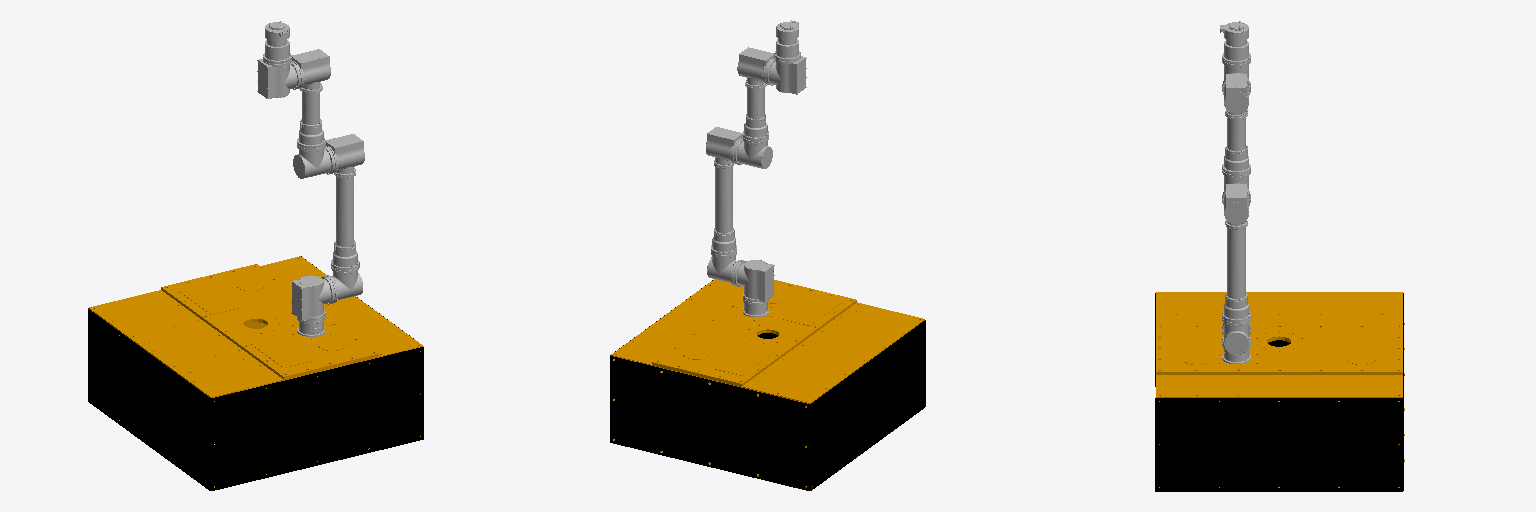
The robot description file, URDF, robot "KARM_EM_v2_sat":
<?xml version="1.0" encoding="utf-8"?>
<!-- This URDF was automatically created by SolidWorks to URDF Exporter! Originally created by Stephen Brawner (brawner@gmail.com) 
 Commit Version: 1.6.0-4-g7f85cfe  Build Version: 1.6.7995.38578
 For more information, please see http://wiki.ros.org/sw_urdf_exporter -->
<robot
  name="KARM_EM_v2_sat">

  <material name="black">
    <color rgba="0.0 0.0 0.0 1.0"/>
  </material>
  <material name="blue">
    <color rgba="0.0 0.0 0.8 1.0"/>
  </material>
  <material name="green">
    <color rgba="0.0 0.8 0.0 1.0"/>
  </material>
  <material name="grey_">
    <color rgba="0.2 0.2 0.2 1.0"/>
  </material>
  <material name="orange">
    <color rgba="1.0 0.4235294117647059 0.0392156862745098 1.0"/>
  </material>
  <material name="brown">
    <color rgba="0.8705882352941177 0.8117647058823529 0.7647058823529411 1.0"/>
  </material>
  <material name="red">
    <color rgba="0.8 0.0 0.0 1.0"/>
  </material>
  <material name="white">
    <color rgba="1.0 1.0 1.0 1.0"/>
  </material>
  <material name="metal">
    <color rgba="0.768627450980392 0.749019607843137 0.729411764705882 1"/>
  </material>
  <material name="metal_grey">
    <color rgba="0.501960784313725 0.501960784313725 0.501960784313725 1"/>
  </material>
  <material name="metal_white">
    <color rgba="0.866666666666667 0.866666666666667 0.890196078431373 1"/>
  </material>

  <link name="world"/>
  <link name="link_px"/>
  <link name="link_py"/>
  <link name="link_pz"/>
  <link name="link_rz"/>
  <link name="link_ry"/>

   <joint name="Px" type="prismatic">
    <parent link="world"/>
    <child link="link_px"/>
    <origin rpy="0 0 0" xyz="+0.0 +0.0 0.0"/>
    <axis xyz="1 0 0"/>
    <limit effort="10000" lower="-20" upper="20" velocity="1000"/>
  </joint>
  <joint name="Py" type="prismatic">
    <parent link="link_px"/>
    <child link="link_py"/>
    <origin rpy="0 0 0" xyz="+0.0 +0.0 0.0"/>
    <axis xyz="0 1 0"/>
    <limit effort="10000" lower="-10" upper="10" velocity="1000"/>
  </joint>
  <joint name="Pz" type="prismatic">
    <parent link="link_py"/>
    <child link="link_pz"/>
    <origin rpy="0 0 0" xyz="+0.0 +0.0 0.0"/>
    <axis xyz="0 0 1"/>
    <limit effort="10000" lower="-2" upper="2" velocity="1000"/>
  </joint>
  <joint name="Rz" type="revolute">
    <parent link="link_pz"/>
    <child link="link_rz"/>
    <origin rpy="0 0 0" xyz="+0.0 +0.0 0.0"/>
    <axis xyz="0 0 1"/>
    <limit effort="10000" lower="-3.14" upper="3.14" velocity="1000"/>
  </joint>
  <joint name="Ry" type="revolute">
    <parent link="link_rz"/>
    <child link="link_ry"/>
    <origin rpy="0 0 0" xyz="+0.0 +0.0 0.0"/>
    <axis xyz="0 1 0"/>
    <limit effort="10000" lower="-3.14" upper="3.14" velocity="1000"/>
  </joint>
  <joint name="Rx" type="revolute">
    <parent link="link_ry"/>
    <child link="l_tcp"/>
    <origin rpy="0 0 0" xyz="+0.0 +0.0 0.0"/>
    <axis xyz="1 0 0"/>
    <limit effort="10000" lower="-3.14" upper="3.14" velocity="1000"/>
  </joint>

  <link name="l_tcp">
    <inertial>
      <mass value="0"/>
      <origin rpy="0 0 0" xyz="0.0 0.0 0.0"/>
      <inertia ixx="0.0" ixy="0.0" ixz="0.0" iyy="0.0" iyz="0.0" izz="0.0"/>
    </inertial>
  </link>

  <link name="FTSensor">
    <inertial>
      <mass value="0.000"/>
      <origin rpy="0 0 0" xyz="0.0 0.0 0.0"/>
      <inertia ixx="0.0" ixy="0.0" ixz="0.0" iyy="0.0" iyz="0.0" izz="0.0"/>
    </inertial>
  </link>

  <joint name="ft_sensor_joint" type="fixed">
    <parent link="l_tcp"/>
    <child link="FTSensor"/>
    <origin rpy="0.0 0  3.1415926536" xyz="0.0 0.0 0.1048"/>
  </joint> 

  <joint name="CRS_fixed" type="fixed">
    <parent link="FTSensor"/>
    <child link="l_CRS_black"/>
    <origin rpy="0.0 0  0" xyz="0.0 0.0 0.0"/>
  </joint> 

  <!-- CRS Base -->
  <link name="l_CRS_black">
    <visual>
       <geometry>
        <mesh filename="meshes/CRS_black.stl"/>
      </geometry>
      <origin rpy="0 0 0" xyz="0.00 0 0"/>
        <material name="black"/>
    </visual>
    <visual>
    <geometry>
        <mesh filename="meshes/CRS_grey.stl"/>
      </geometry>
      <origin rpy="0 0 0" xyz="0.00 0 0"/>
        <material name="white_grey"/>
    </visual>
    <inertial>
      <mass value="500.0"/>
      <origin rpy="0 0 0" xyz="0.0 0.0 0.0"/>
      <inertia ixx="195" ixy="0.0" ixz="0.0" iyy="195" iyz="0.0" izz="120"/>
    </inertial>
  </link>

  <joint name="sat_to_indy12_fixed" type="fixed">
    <parent link="FTSensor"/>
    <child link="link0"/>
    <origin rpy="0    0 -1.5708" xyz="-0.19232 0.20744 0.0345"/>
  </joint>

  <link
    name="link0">
    <inertial>
      <origin
        xyz="-0.00103581 0.0 0.04093116"
        rpy="0 0 0" />
      <mass
        value="0.50587804" />
      <inertia
        ixx="0.00132199"
        ixy="0.0"
        ixz="0.00000760"
        iyy="0.00135029"
        iyz="0.0"
        izz="0.00189639" />
    </inertial>
    <visual>
      <origin
        xyz="0 0 0"
        rpy="0 0 0" />
      <geometry>
        <mesh
          filename="meshes/ASM_EM_V2_LINK_0.STL" />
      </geometry>
      <material
        name="">
        <color
          rgba="0.75294 0.75294 0.75294 1" />
      </material>
    </visual>
    <collision>
      <origin
        xyz="0 0 0"
        rpy="0 0 0" />
      <geometry>
        <mesh
          filename="meshes/ASM_EM_V2_LINK_0.STL" />
      </geometry>
    </collision>
  </link>
  <link
    name="link1">
    <inertial>
      <origin
        xyz="-0.00012971 -0.03627547 0.07258973"
        rpy="0 0 0" />
      <mass
        value="6.73005605" />
      <inertia
        ixx="0.05762149"
        ixy="-0.00006714"
        ixz="-0.00001782"
        iyy="0.03664038"
        iyz="-0.01209112"
        izz="0.03415321" />
    </inertial>
    <visual>
      <origin
        xyz="0 0 0"
        rpy="0 0 0" />
      <geometry>
        <mesh
          filename="meshes/ASM_EM_V2_LINK_1.STL" />
      </geometry>
      <material
        name="">
        <color
          rgba="0.75294 0.75294 0.75294 1" />
      </material>
    </visual>
    <collision>
      <origin
        xyz="0 0 0"
        rpy="0 0 0" />
      <geometry>
        <mesh
          filename="meshes/ASM_EM_V2_LINK_1.STL" />
      </geometry>
    </collision>
  </link>

  <link
    name="link2">
    <inertial>
      <origin
        xyz="0 -0.07828883 0.02158454"
        rpy="0 0 0" />
      <mass
        value="1.03696228" />
      <inertia
        ixx="0.00585872"
        ixy="-0.00000001"
        ixz="0.0"
        iyy="0.00499784"
        iyz="-0.00021746"
        izz="0.00585872" />
    </inertial>
    <visual>
      <origin
        xyz="0 0 0"
        rpy="0 0 0" />
      <geometry>
        <mesh
          filename="meshes/ASM_EM_V2_LINK_2.STL" />
      </geometry>
      <material
        name="">
        <color
          rgba="0.752941176470588 0.752941176470588 0.752941176470588 1" />
      </material>
    </visual>
    <collision>
      <origin
        xyz="0 0 0"
        rpy="0 0 0" />
      <geometry>
        <mesh
          filename="meshes/ASM_EM_V2_LINK_2.STL" />
      </geometry>
    </collision>
  </link>

  <link
    name="link3">
    <inertial>
      <origin
        xyz="-0.00007377 0.03129504 0.34046856"
        rpy="0 0 0" />
      <mass
        value="8.53351346" />
      <inertia
        ixx="0.67442861"
        ixy="0.00002201"
        ixz="-0.00021578"
        iyy="0.65414252"
        iyz="0.06857224"
        izz="0.03701854" />
    </inertial>
    <visual>
      <origin
        xyz="0 0 0"
        rpy="0 0 0" />
      <geometry>
        <mesh
          filename="meshes/ASM_EM_V2_LINK_3.STL" />
      </geometry>
      <material
        name="">
        <color
          rgba="0.75294 0.75294 0.75294 1" />
      </material>
    </visual>
    <collision>
      <origin
        xyz="0 0 0"
        rpy="0 0 0" />
      <geometry>
        <mesh
          filename="meshes/ASM_EM_V2_LINK_3.STL" />
      </geometry>
    </collision>
  </link>

  <link
    name="link4">
    <inertial>
      <origin
        xyz="0.0 0.07828883 0.02158454"
        rpy="0 0 0" />
      <mass
        value="1.03696228" />
      <inertia
        ixx="0.00585872"
        ixy="0.0"
        ixz="0.0"
        iyy="0.00499784"
        iyz="0.00021746"
        izz="0.00479989" />
    </inertial>
    <visual>
      <origin
        xyz="0 0 0"
        rpy="0 0 0" />
      <geometry>
        <mesh
          filename="meshes/ASM_EM_V2_LINK_4.STL" />
      </geometry>
      <material
        name="">
        <color
          rgba="0.752941176470588 0.752941176470588 0.752941176470588 1" />
      </material>
    </visual>
    <collision>
      <origin
        xyz="0 0 0"
        rpy="0 0 0" />
      <geometry>
        <mesh
          filename="meshes/ASM_EM_V2_LINK_4.STL" />
      </geometry>
    </collision>
  </link>

  <link
    name="link5">
    <inertial>
      <origin
        xyz="-0.00007975 0.03383054 0.23087355"
        rpy="0 0 0" />
      <mass
        value="7.89416673" />
      <inertia
        ixx="0.30885258"
        ixy="0.00002377"
        ixz="-0.00015419"
        iyy="0.28924225"
        iyz="0.04446799"
        izz="0.03516201" />
    </inertial>
    <visual>
      <origin
        xyz="0 0 0"
        rpy="0 0 0" />
      <geometry>
        <mesh
          filename="meshes/ASM_EM_V2_LINK_5.STL" />
      </geometry>
      <material
        name="">
        <color
          rgba="0.75294 0.75294 0.75294 1" />
      </material>
    </visual>
    <collision>
      <origin
        xyz="0 0 0"
        rpy="0 0 0" />
      <geometry>
        <mesh
          filename="meshes/ASM_EM_V2_LINK_5.STL" />
      </geometry>
    </collision>
  </link>

  <link
    name="link6">
    <inertial>
      <origin
        xyz="0.00020364 0.09335466 0.07814514"
        rpy="0 0 0" />
      <mass
        value="4.17204018" />
      <inertia
        ixx="0.02564449"
        ixy="0.00003403"
        ixz="-0.00004296"
        iyy="0.02310433"
        iyz="-0.00116219"
        izz="0.01188389" />
    </inertial>
    <visual>
      <origin
        xyz="0 0 0"
        rpy="0 0 0" />
      <geometry>
        <mesh
          filename="meshes/ASM_EM_V2_LINK_6.STL" />
      </geometry>
      <material
        name="">
        <color
          rgba="0.752941176470588 0.752941176470588 0.752941176470588 1" />
      </material>
    </visual>
    <collision>
      <origin
        xyz="0 0 0"
        rpy="0 0 0" />
      <geometry>
        <mesh
          filename="meshes/ASM_EM_V2_LINK_6.STL" />
      </geometry>
    </collision>
  </link>

  <link
    name="link7">
    <inertial>
      <origin
        xyz="0.00001055 -0.00228688 0.11844420"
        rpy="0 0 0" />
      <mass
        value="1.54531322" />
      <inertia
        ixx="0.00332840"
        ixy="-0.00002715"
        ixz="-0.00000961"
        iyy="0.00369572"
        iyz="-0.00004800"
        izz="0.00245411" />
    </inertial>
    <visual>
      <origin
        xyz="0 0 0"
        rpy="0 0 0" />
      <geometry>
        <mesh
          filename="meshes/ASM_EM_V2_LINK_7.STL" />
      </geometry>
      <material
        name="">
        <color
          rgba="0.752941176470588 0.752941176470588 0.752941176470588 1" />
      </material>
    </visual>
    <collision>
      <origin
        xyz="0 0 0"
        rpy="0 0 0" />
      <geometry>
        <mesh
          filename="meshes/ASM_EM_V2_LINK_7.STL" />
      </geometry>
    </collision>
  </link>

  <link name="tcp">
      <inertial>
        <origin xyz="0 0 0"  rpy="0 0 0" />
        <mass value="0.0"/>
        <inertia  ixx="0.0"      ixy="0"      ixz="0"      iyy="0.0"      iyz="0"      izz="0.0" />
     </inertial>
  </link>


  <joint
    name="joint1"
    type="revolute">
    <origin
      xyz="0 0 0.078"
      rpy="0 0 0" />
    <parent
      link="link0" />
    <child
      link="link1" />
    <axis
      xyz="0 0 1" />
    <limit
      lower="-3.14"
      upper="3.14"
      effort="400"
      velocity="3.14" />
  </joint>

  <joint
    name="joint2"
    type="revolute">
    <origin
      xyz="0 -0.104 0.121"
      rpy="0 0 0" />
    <parent
      link="link1" />
    <child
      link="link2" />
    <axis
      xyz="0 1 0" />
    <limit
      lower="-3.14"
      upper="3.14"
      effort="400"
      velocity="3.14" />
  </joint>

  <joint
    name="joint3"
    type="revolute">
    <origin
      xyz="0.0 -0.088 0.105"
      rpy="0 0 0" />
    <parent
      link="link2" />
    <child
      link="link3" />
    <axis
      xyz="0 0 1" />
    <limit
      lower="-3.14"
      upper="3.14"
      effort="400"
      velocity="3.14" />
  </joint>

  <joint
    name="joint4"
    type="revolute">
    <origin
      xyz="0.0 0.104 0.597"
      rpy="0 0 0" />
    <parent
      link="link3" />
    <child
      link="link4" />
    <axis
      xyz="0 1 0" />
    <limit
      lower="-3.14"
      upper="3.14"
      effort="400"
      velocity="3.14" />
  </joint>

  <joint
    name="joint5"
    type="revolute">
    <origin
      xyz="0.0 0.088 0.105"
      rpy="0 0 0" />
    <parent
      link="link4" />
    <child
      link="link5" />
    <axis
      xyz="0 0 1" />
    <limit
      lower="-3.14"
      upper="3.14"
      effort="400"
      velocity="3.14" />
  </joint>

  <joint
    name="joint6"
    type="revolute">
    <origin
      xyz="0 0.104 0.397"
      rpy="0 0 0" />
    <parent
      link="link5" />
    <child
      link="link6" />
    <axis
      xyz="0 1 0" />
    <limit
      lower="-3.14"
      upper="3.14"
      effort="400"
      velocity="3.14" />
  </joint>

  <joint
    name="joint7"
    type="revolute">
    <origin
      xyz="0.0 0.088 0.121"
      rpy="0 0 0" />
    <parent
      link="link6" />
    <child
      link="link7" />
    <axis
      xyz="0 0 1" />
    <limit
      lower="-3.14"
      upper="3.14"
      effort="400"
      velocity="3.14" />
  </joint>

  <joint name="tcp_fixed" type="fixed">
    <parent link="link7"/>
    <child link="tcp"/>
    <origin xyz="0 0 0.173222" rpy="0 0 0"/>
  </joint>
</robot>

--- Facts derived from the render (not from the file) ---
The picture shows the robot from 3 angles, left to right: view 1: azimuth 30°, elevation 25°; view 2: azimuth 150°, elevation 25°; view 3: azimuth 270°, elevation 25°; orthographic projection.
Model KARM_EM_v2_sat with 18 links and 17 joints (10 revolute, 3 prismatic, 4 fixed), rooted at world, posed every joint at zero.
Links seen in each view (by area): view 1: l_CRS_black, link3, link5, link1, link6, link4, link7, link2; view 2: l_CRS_black, link3, link5, link1, link6, link4, link7, link2; view 3: l_CRS_black, link3, link5, link7, link2.
Boxes of the visible links, box(x1,y1,x2,y2) form: l_CRS_black: box(88, 256, 423, 490); link3: box(326, 134, 364, 271); link5: box(292, 49, 330, 150); link1: box(291, 275, 336, 322); link6: box(257, 57, 299, 98); link4: box(293, 145, 333, 178); link7: box(263, 21, 291, 62); link2: box(327, 267, 362, 302); l_CRS_black: box(610, 279, 925, 490); link3: box(706, 127, 742, 256); link5: box(737, 47, 773, 142); link1: box(732, 260, 774, 303); link6: box(767, 55, 806, 94); link4: box(735, 139, 772, 168); link7: box(774, 20, 800, 59); link2: box(707, 253, 738, 284); l_CRS_black: box(1155, 292, 1404, 491); link3: box(1222, 184, 1250, 323); link5: box(1222, 74, 1250, 176); link7: box(1220, 21, 1250, 62); link2: box(1222, 320, 1250, 354).
Size in the robot's own frame: 1.21 by 1.22 by 2.23 metres.
Meshes: 10 distinct files referenced, 10 mesh visuals loaded (10 binary STL).
